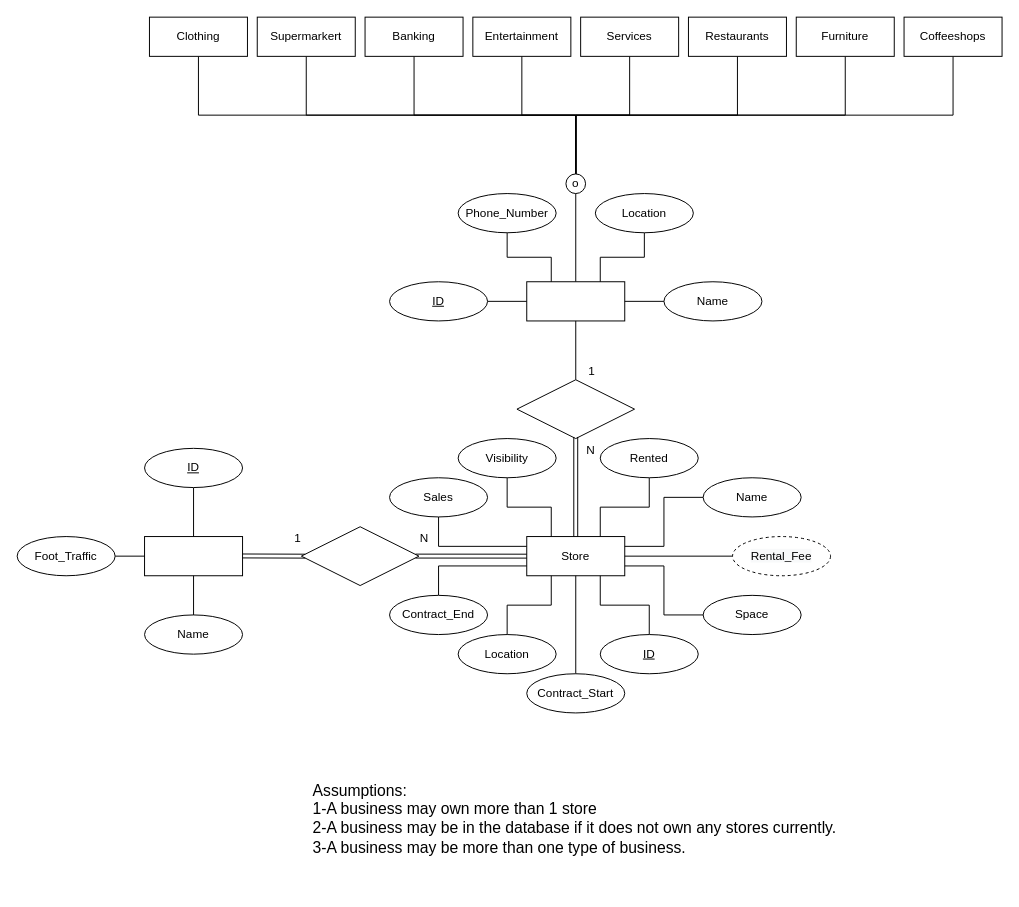
Some shapes in this 1019 by 907 pixel diagram are drawn without their labels. Here are the shapes that lost their labels. From the top down, the centre of each, then its label:
(x=575, y=301): Business
(x=575, y=409): Owns
(x=193, y=556): Floor
(x=359, y=556): Is In
